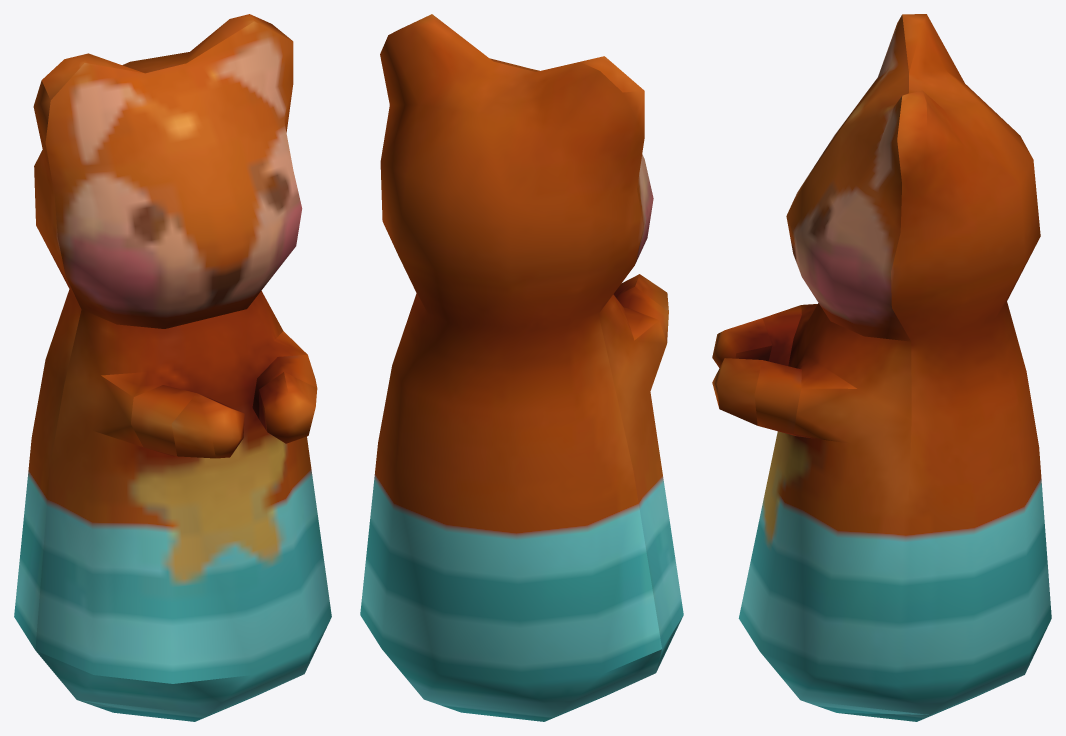
Rendered from jugueteSensorial_Ardilla.fbx.
3 renders of one model, left to right at view 1: azimuth 30°, elevation 25°; view 2: azimuth 150°, elevation 25°; view 3: azimuth 270°, elevation 25°, orthographic. The views are drawn at different scales.
Visible parts, largest first — view 1: s4studio_mesh_0; view 2: s4studio_mesh_0; view 3: s4studio_mesh_0.
Part boxes in pixels (x1,y1,x2,y2): s4studio_mesh_0: (14, 14, 331, 721); s4studio_mesh_0: (360, 14, 683, 721); s4studio_mesh_0: (712, 14, 1051, 721).
Size of the model in its own units: 8.46 by 19.3 by 9.18.
1 material, 1 textured.
